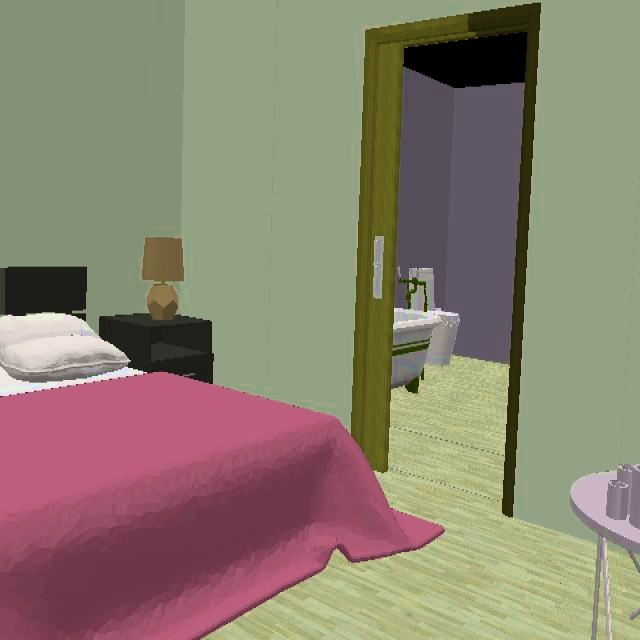bathtube: (391, 308, 440, 395)
bed: (0, 355, 445, 640)
lamp: (142, 237, 184, 321)
nighttable: (97, 315, 214, 384)
pillow: (0, 313, 130, 389)
table: (569, 464, 640, 575)
toilet: (409, 268, 460, 367)
